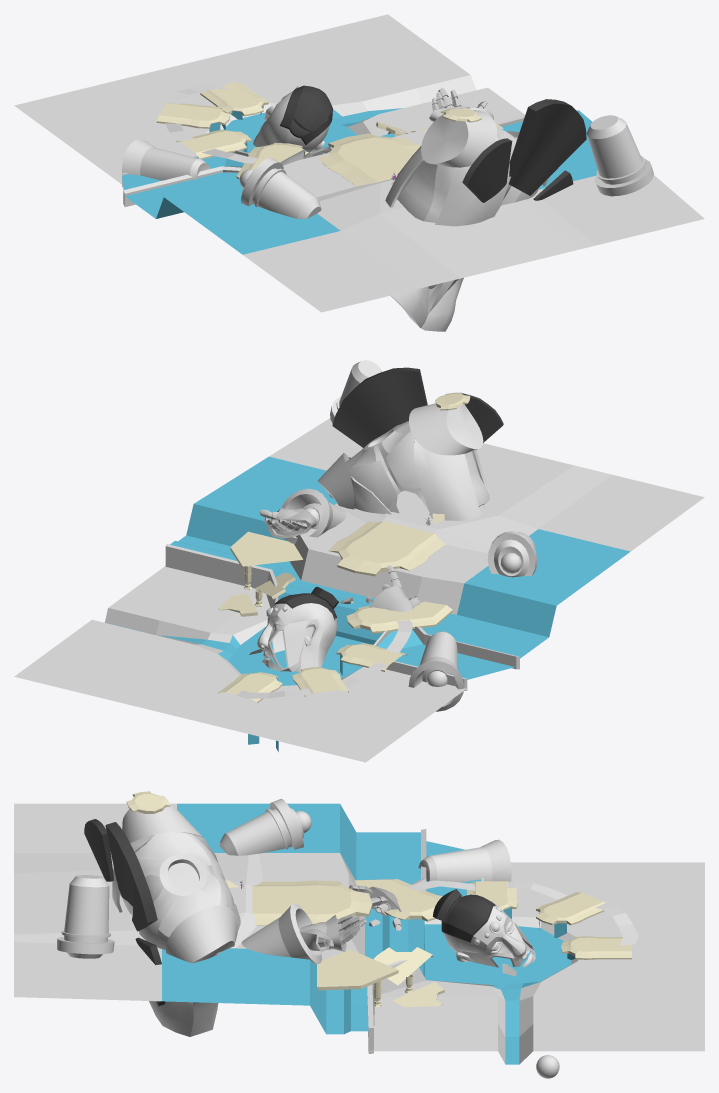
The model's file is environment_statue_Alex.fbx.
The picture shows the model from 3 angles, top to bottom: view 1: azimuth 30°, elevation 25°; view 2: azimuth 150°, elevation 25°; view 3: azimuth 270°, elevation 25°; orthographic projection. The views are drawn at different scales.
Parts seen in each view (by area): view 1: Plane.012, head_hair.039, head_hair.037, head_hair.036, head_hair.041, Cylinder003.027, head_hair.038, head_hair.023, head_hair.034, Cylinder003.034, Cylinder003.035, Cylinder003.033 (+4 smaller); view 2: Plane.012, head_hair.039, head_hair.037, head_hair.041, Cylinder003.027, head_hair.038, Cylinder003.031, Plane.013, head_hair.034, Cylinder003.032, head_hair.023, head_hair.035 (+8 smaller); view 3: Plane.012, head_hair.039, head_hair.041, Cylinder003.031, Cylinder003.027, head_hair.037, head_hair.036, head_hair.023, head_hair.034, head_hair.035, Cylinder003.032, head_hair.038 (+9 smaller).
Boxes of the visible parts, x1,y1,x2,y2 form: Plane.012: (14, 14, 704, 312); head_hair.039: (385, 127, 550, 331); head_hair.037: (462, 99, 586, 202); head_hair.036: (586, 115, 653, 196); head_hair.041: (253, 85, 332, 152); Cylinder003.027: (318, 133, 420, 186); head_hair.038: (421, 110, 497, 167); head_hair.023: (239, 157, 321, 218); head_hair.034: (121, 139, 210, 180); Cylinder003.034: (156, 103, 230, 128); Cylinder003.035: (200, 82, 268, 116); Cylinder003.033: (176, 129, 251, 159); Plane.012: (14, 418, 704, 762); head_hair.039: (317, 421, 490, 520); head_hair.037: (332, 367, 503, 458); head_hair.041: (249, 587, 338, 671); Cylinder003.027: (328, 521, 445, 576); head_hair.038: (409, 403, 483, 455); Cylinder003.031: (218, 531, 302, 616); Plane.013: (165, 544, 278, 607); head_hair.034: (408, 631, 464, 711); Cylinder003.032: (346, 601, 452, 633); head_hair.023: (487, 531, 537, 577); head_hair.035: (281, 488, 346, 543); Plane.012: (14, 803, 704, 1064); head_hair.039: (112, 832, 240, 1036); head_hair.041: (432, 889, 535, 976); Cylinder003.031: (317, 947, 444, 1007); Cylinder003.027: (252, 880, 372, 925); head_hair.037: (84, 819, 165, 1006); head_hair.036: (57, 875, 114, 958); head_hair.023: (219, 799, 311, 855); head_hair.034: (418, 839, 511, 882); head_hair.035: (241, 903, 321, 963); Cylinder003.032: (355, 879, 441, 921); head_hair.038: (122, 806, 202, 843).
Bounding box in the file's own units: 7476 × 4130 × 10798.
